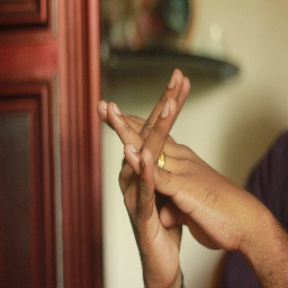W: (80, 61, 215, 242)
